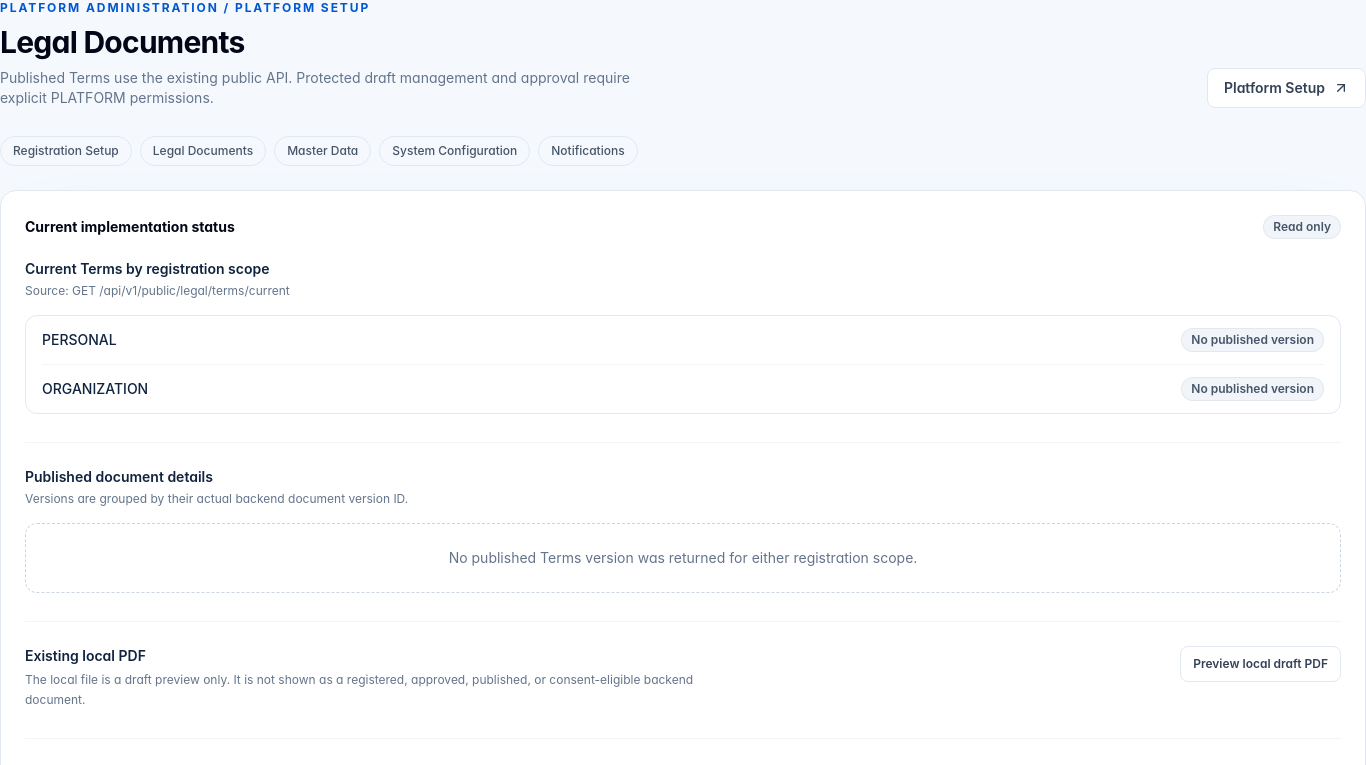
Test: LegalDocumentsPage › reports unavailable published Terms while allowing only a local draft preview
Expected: the text "No published version" is shown 2 times, x1=1181 y1=328 x2=1324 y2=352; x1=1181 y1=377 x2=1324 y2=401
Expected: the text "No published Terms version was returned" is shown, x1=449 y1=549 x2=917 y2=566
Click the button "Preview local draft PDF".
click(1261, 664)  # box x1=1180 y1=646 x2=1341 y2=682
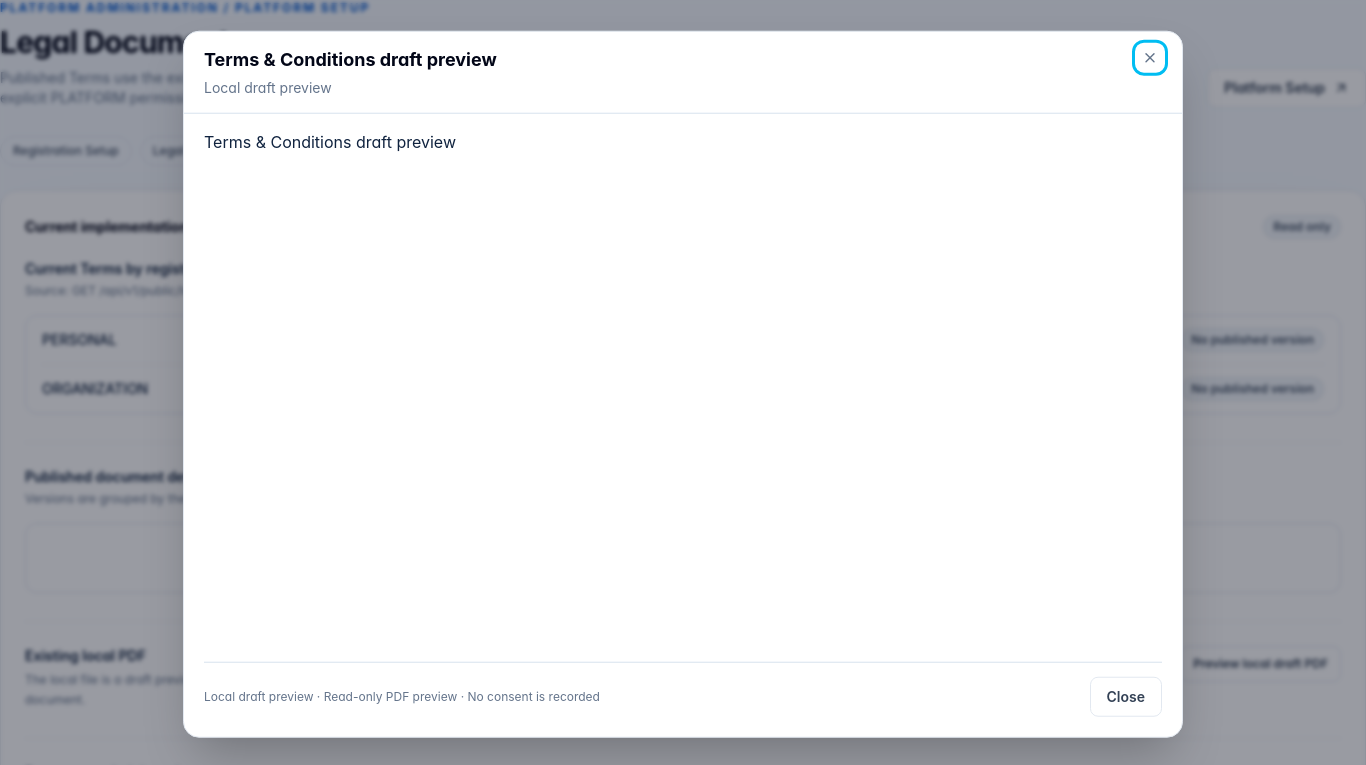
Now the text with test id "pdf-preview" reads "Terms & Conditions draft preview", box x1=204 y1=132 x2=456 y2=152
Now the text "No consent is recorded" is shown, box x1=204 y1=688 x2=600 y2=703
